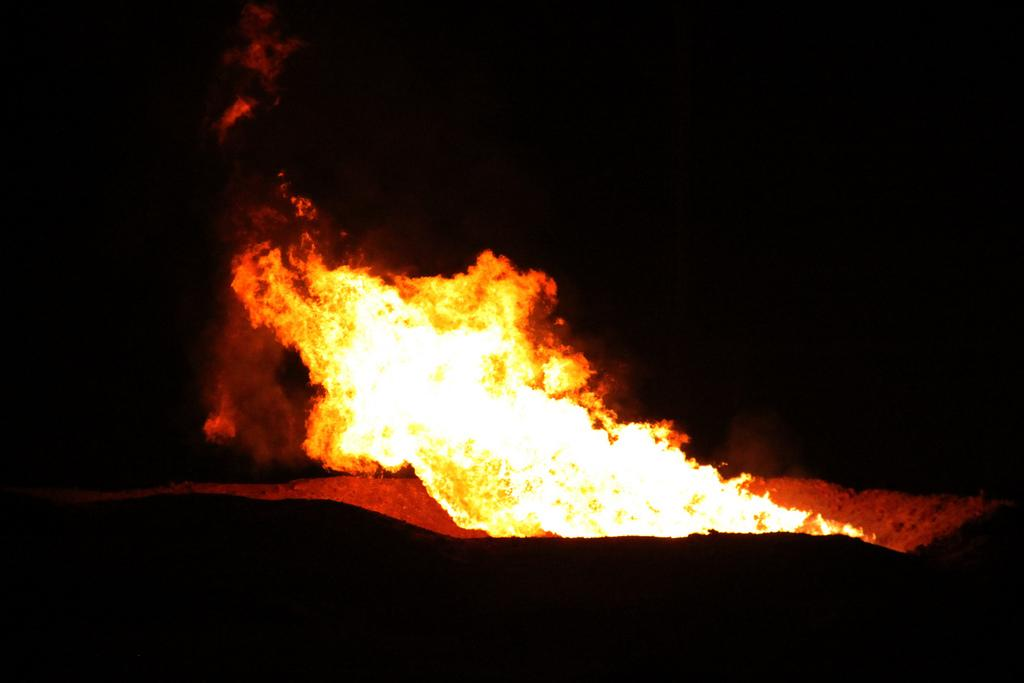fire: (313, 270, 533, 508), (567, 428, 707, 525)
